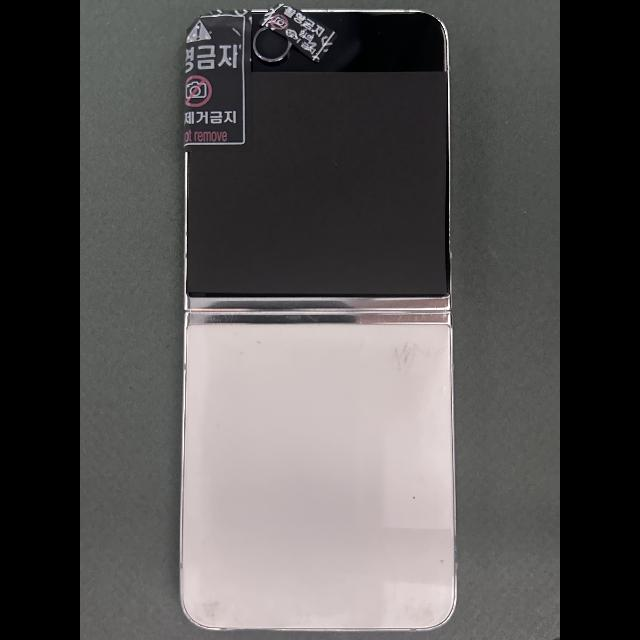lens: (253, 27, 292, 62)
phone: (179, 9, 457, 632)
sticker: (184, 9, 252, 153), (259, 3, 338, 62)
